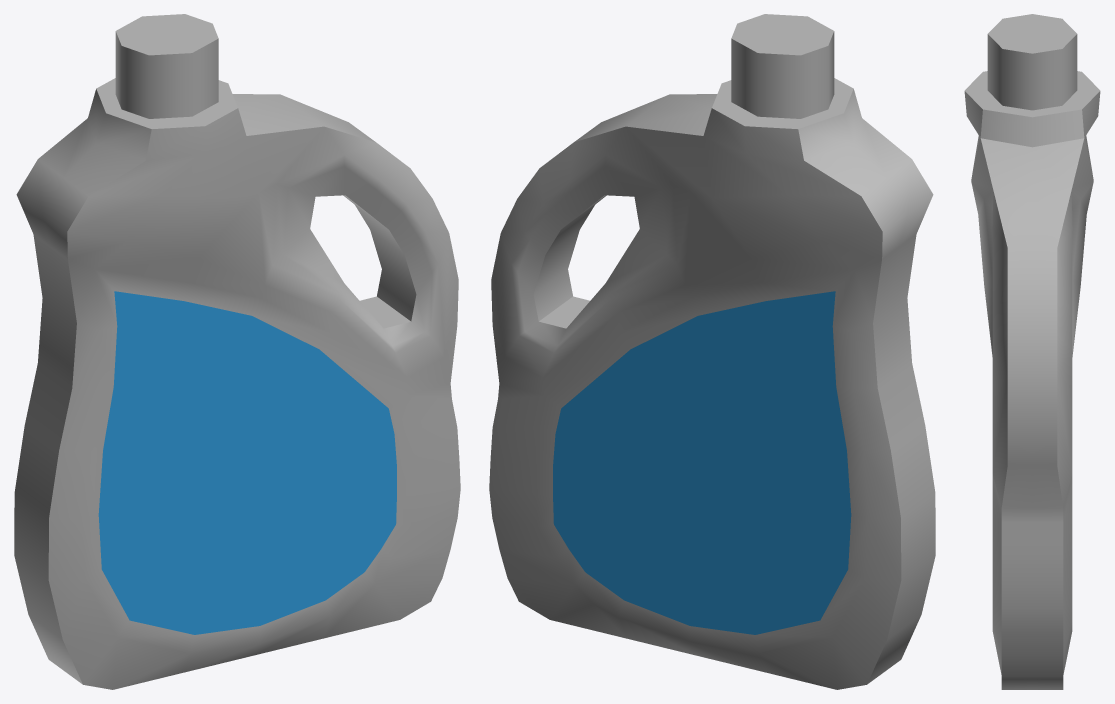
The model's file is detergente.fbx.
The picture shows the model from 3 angles, left to right: view 1: azimuth 30°, elevation 25°; view 2: azimuth 150°, elevation 25°; view 3: azimuth 270°, elevation 25°; orthographic projection. The views are drawn at different scales.
Visible parts, largest first — view 1: Plane; view 2: Plane; view 3: Plane.
Boxes of the visible parts, x1,y1,x2,y2 form: Plane: [14, 14, 460, 689]; Plane: [489, 14, 935, 689]; Plane: [964, 14, 1100, 689].
Size of the model in its own units: 161 by 233 by 51.3.
